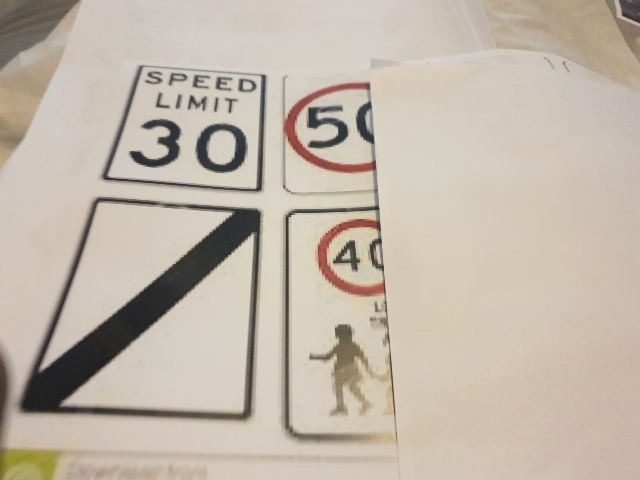sp30: (132, 104, 257, 183)
sp40: (304, 218, 435, 297)
sp50: (278, 81, 412, 176)
